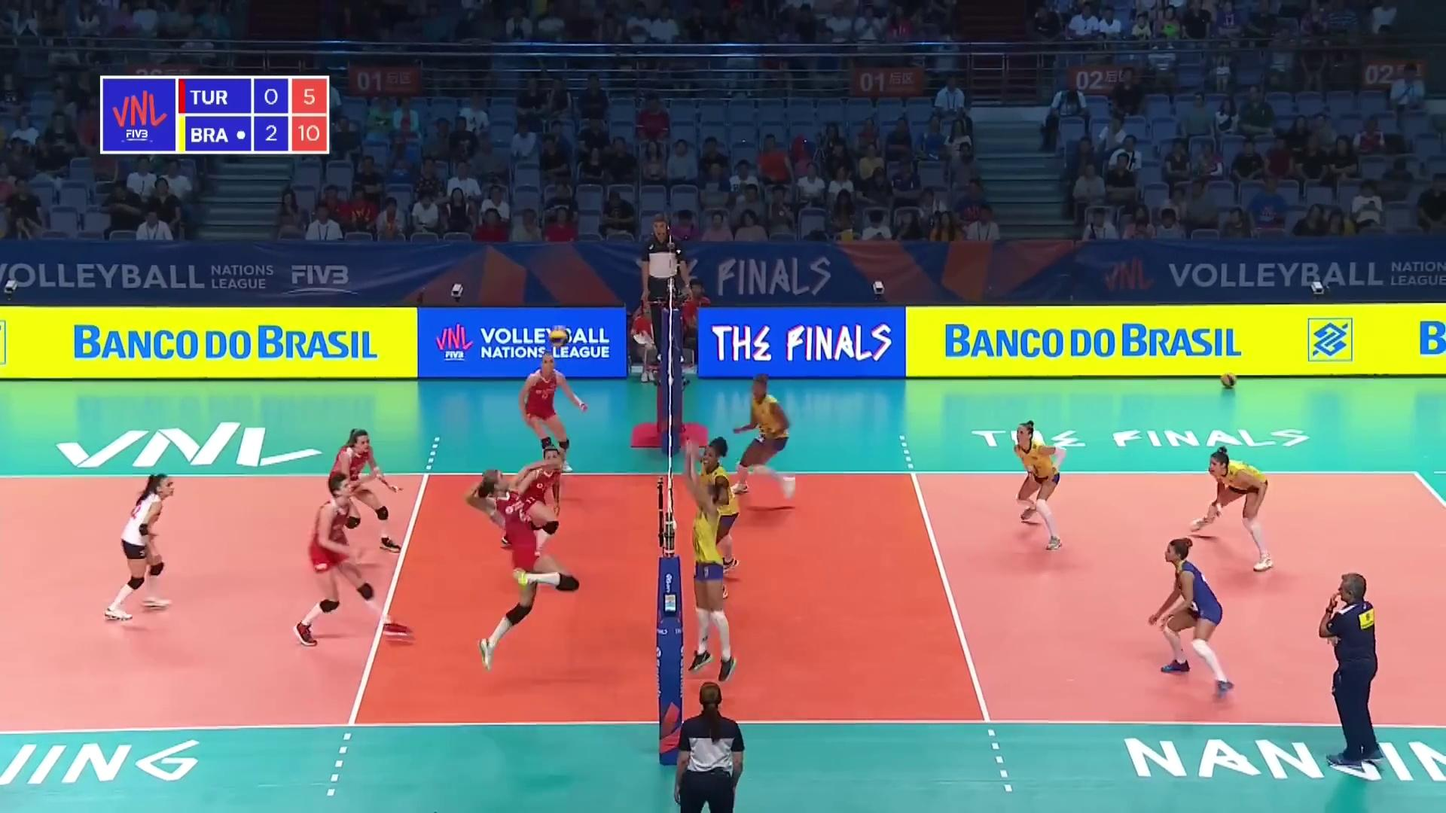player: (466, 466, 582, 671), (297, 477, 414, 645), (1148, 537, 1233, 695), (688, 443, 736, 683), (1186, 450, 1276, 572), (108, 473, 175, 621), (327, 431, 404, 554), (518, 352, 589, 474), (734, 374, 799, 499), (690, 438, 739, 598), (1014, 422, 1067, 550), (500, 450, 562, 557)
refree: (675, 679, 747, 813), (641, 215, 687, 364)
